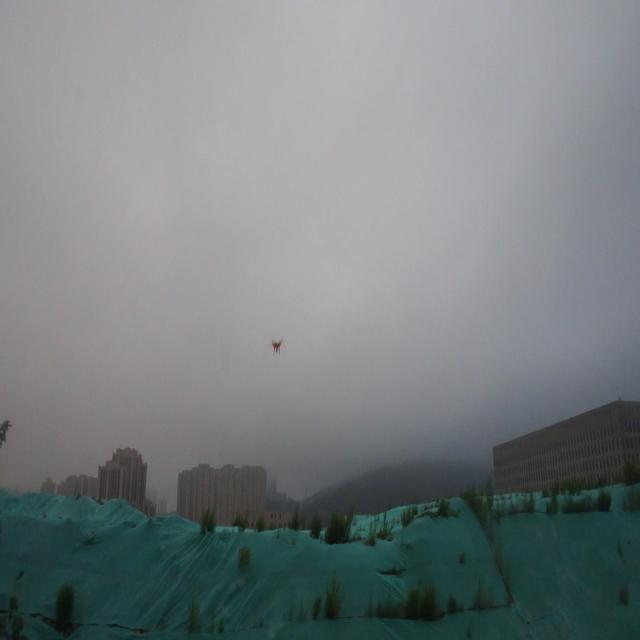drone: (270, 336, 284, 354)
